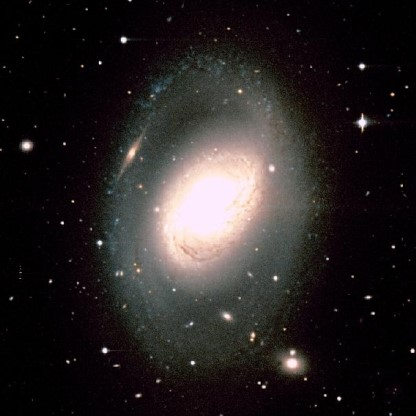Messier 96: (84, 44, 321, 383)
